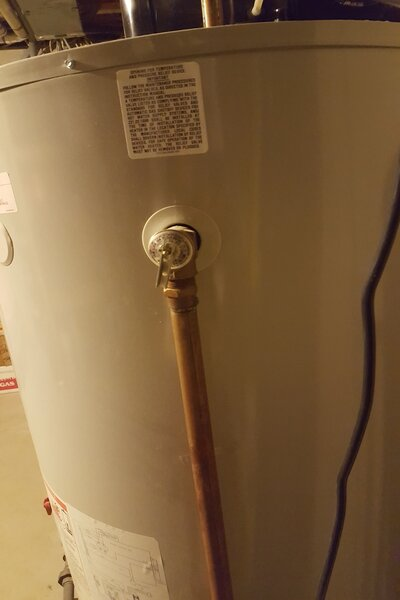valve: (146, 225, 204, 315)
